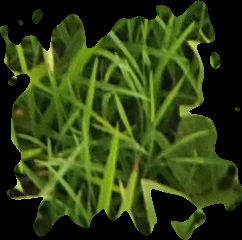grass: (1, 2, 241, 239)
